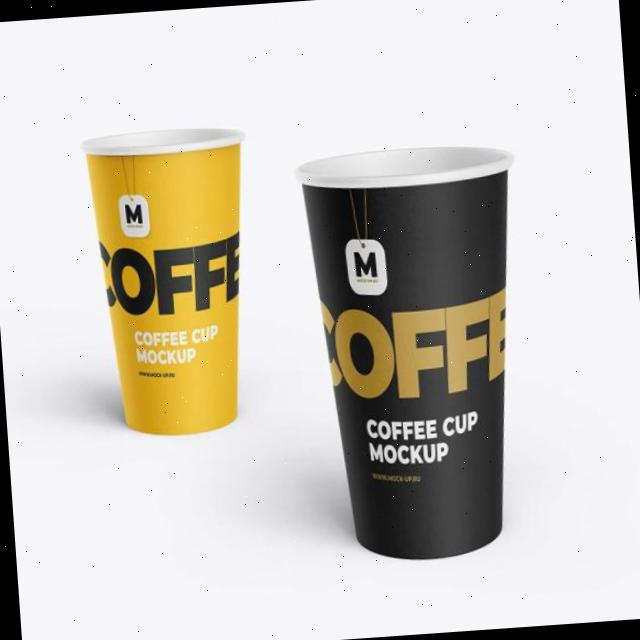trash: (294, 139, 542, 568), (80, 121, 264, 442)
